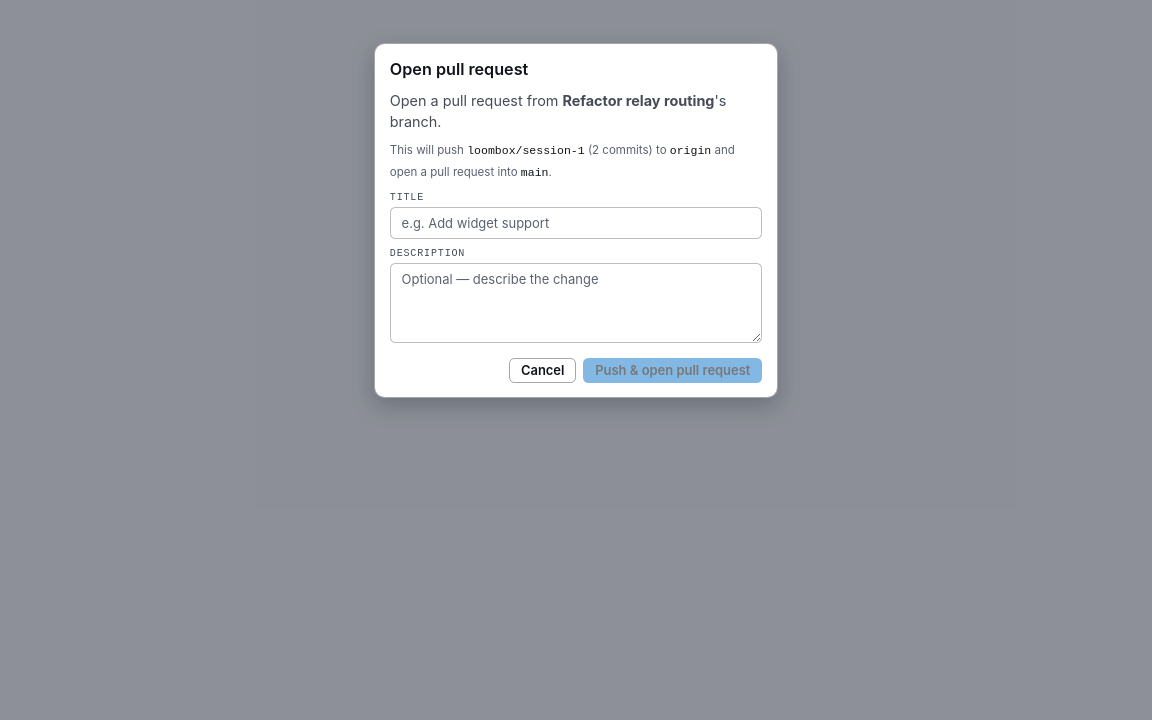
Test: PrOpenDialog (SPEC §7.14; issue #238) › an open failure (e.g. push_failed) is shown distinctly and keeps the form so the operator can retry
Type "Add widget" into the field with test id "pr-open-title-input" at (576, 223), box [390,207,762,239]
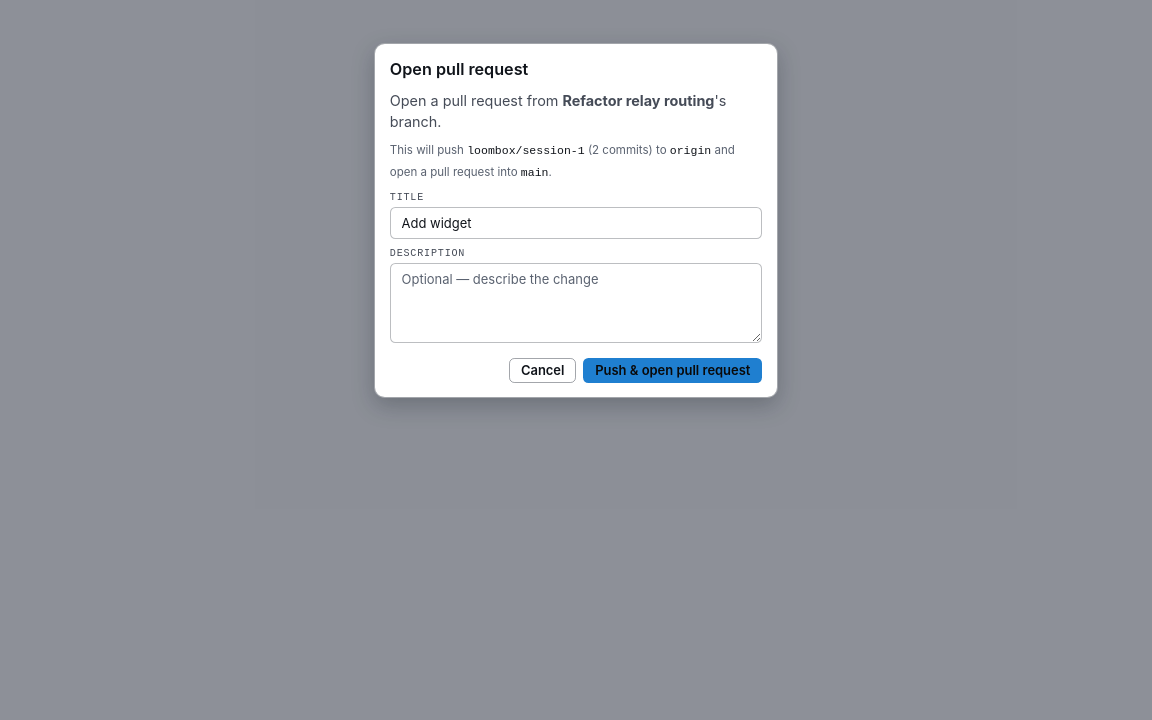
Click the button with test id "pr-open-confirm" at (673, 370), box [583,358,762,383]
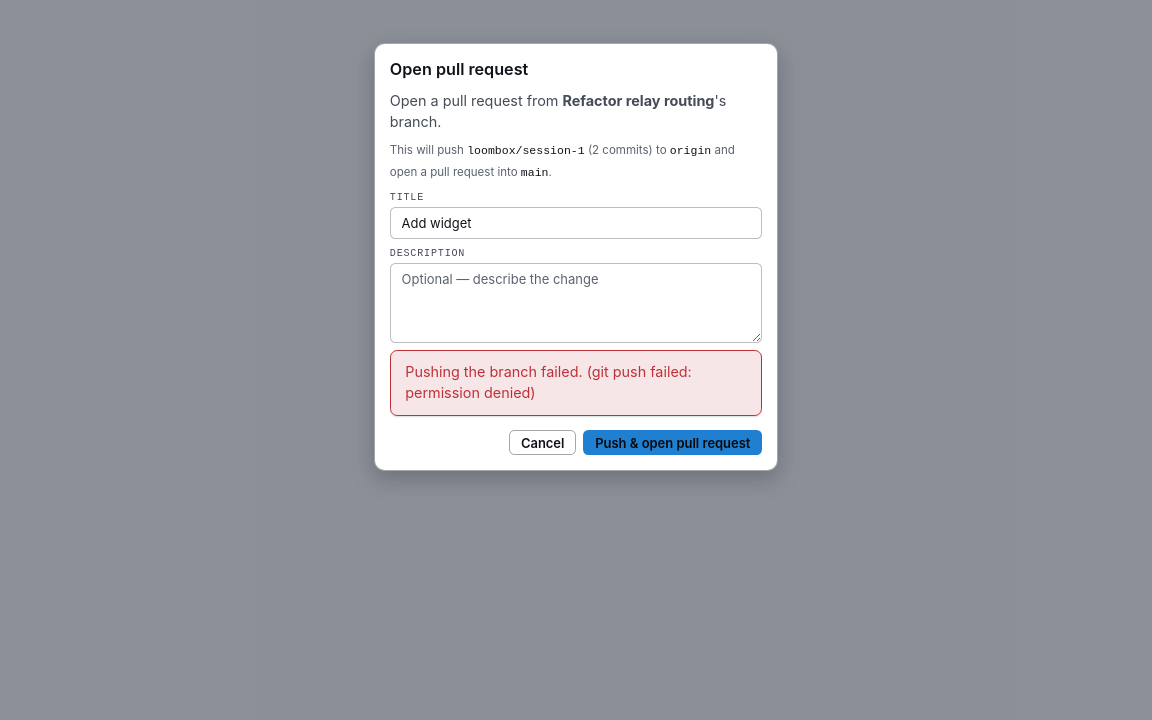
Expected: the button with test id "pr-open-confirm" is shown, [583,430,762,455]
Result: the message with test id "ui-error-notice" shows "Pushing the branch failed" at [405,363,692,401]
